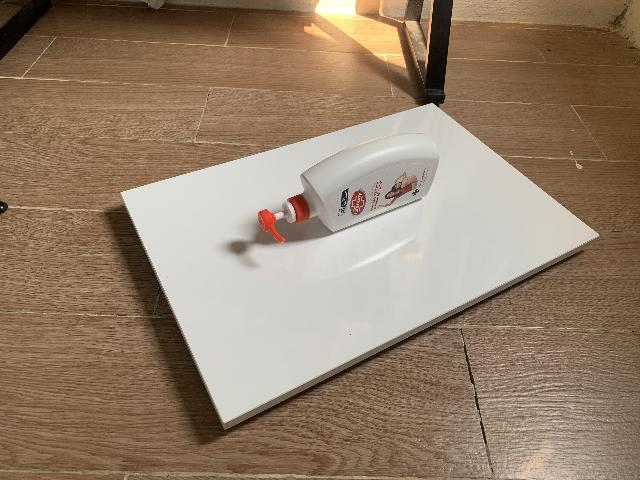life-buoy: (257, 133, 440, 243)
